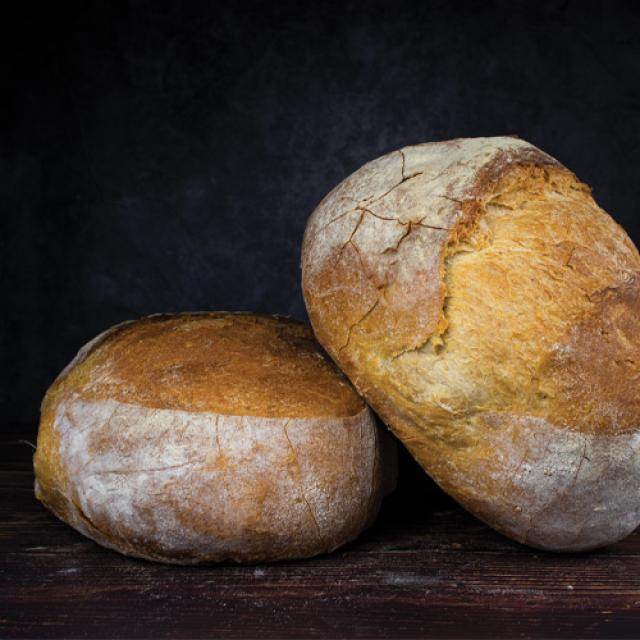Maltese-Bread: (302, 137, 639, 549), (33, 312, 396, 563)
